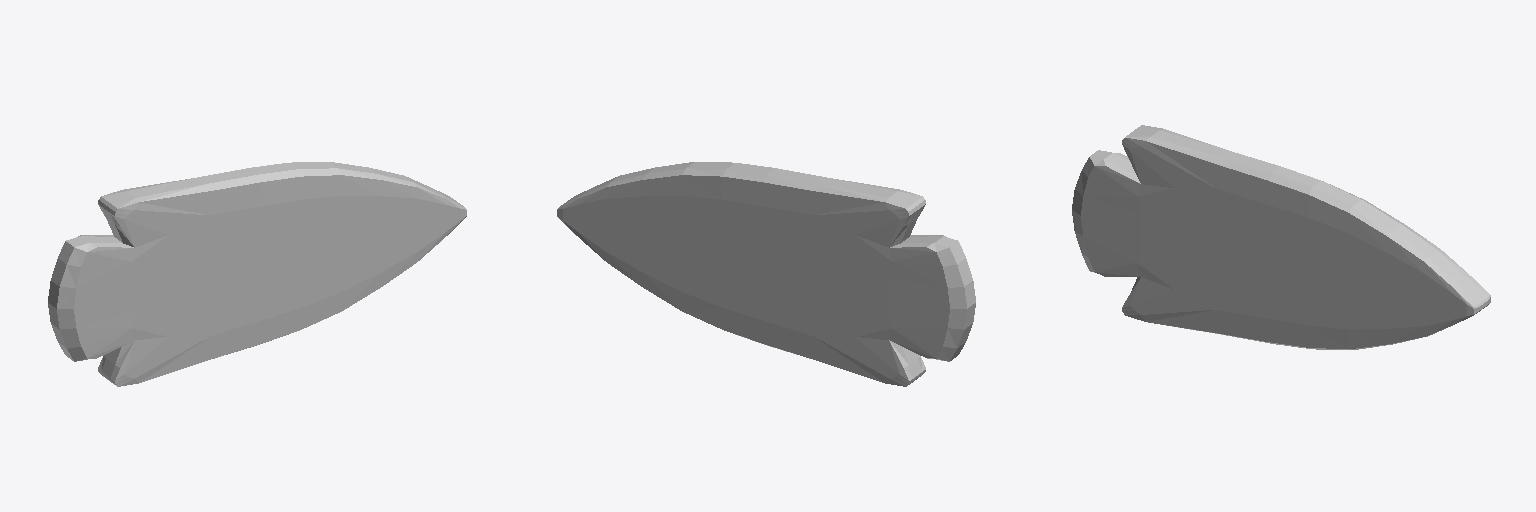
Rendered from PM3D_fish.OBJ.
3 renders of one model, left to right at view 1: azimuth 30°, elevation 25°; view 2: azimuth 150°, elevation 25°; view 3: azimuth 330°, elevation 25°, orthographic.
Visible parts, largest first — view 1: Group48653, Group15807; view 2: Group15807, Group48653; view 3: Group48653, Group15807.
Part boxes in pixels (bbox=[...]): Group48653: bbox=[51, 163, 466, 386]; Group15807: bbox=[48, 162, 458, 378]; Group15807: bbox=[557, 162, 975, 386]; Group48653: bbox=[559, 163, 972, 382]; Group48653: bbox=[1072, 125, 1490, 349]; Group15807: bbox=[1075, 129, 1471, 349].
Bounding box in the file's own units: 203 × 87.33 × 15.52.